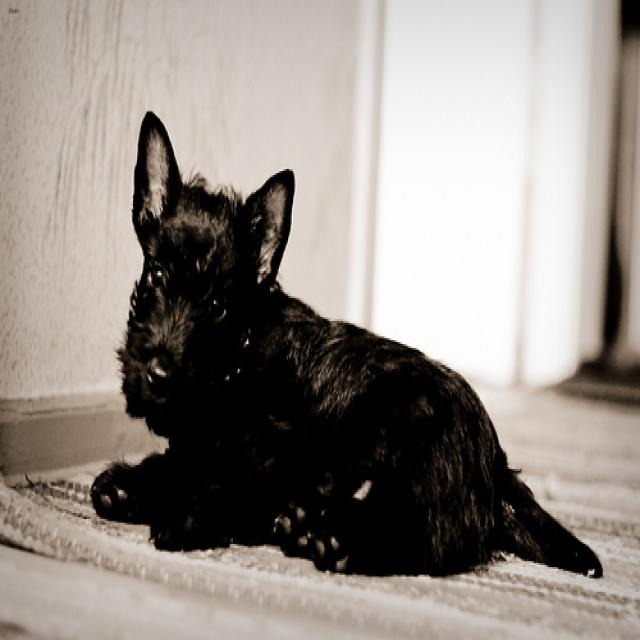dog-scottish_terrier: (83, 96, 614, 590)
